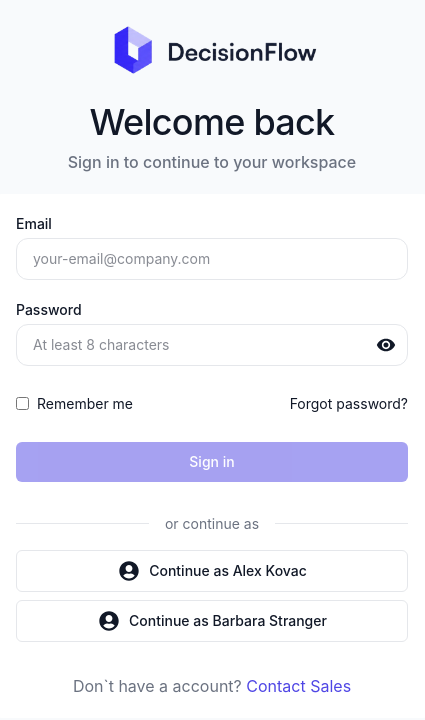
it: Login validation › should show error for invalid email
In the field with placeholder "your-email@company.com": [212, 259] box [16,238,408,280], type "bad-email"
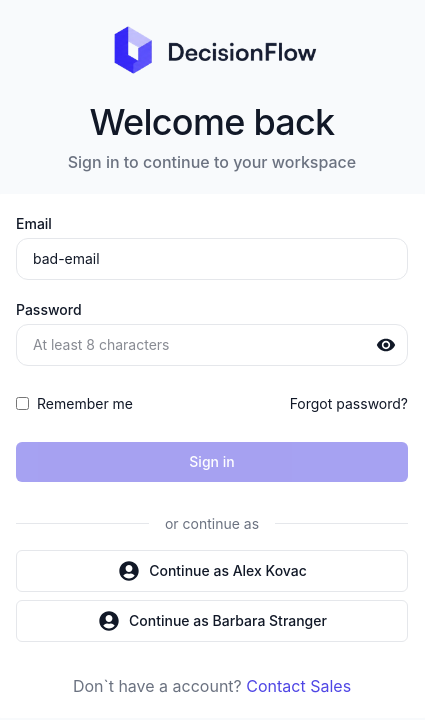
Click the button "Sign in": [212, 462] box [16,442,408,482]
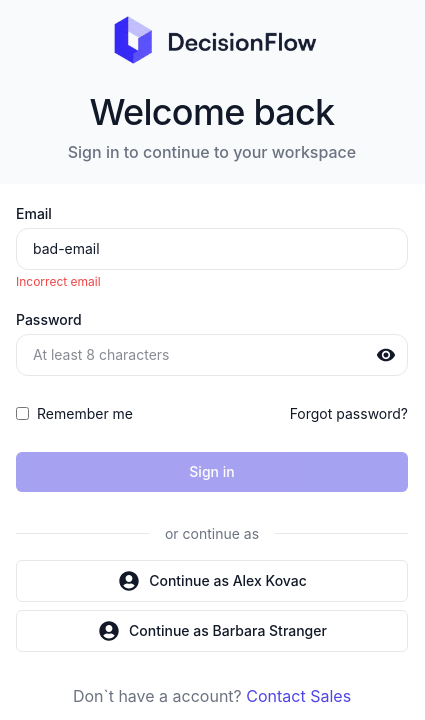
Expected: the text "Incorrect email" is shown, [16,274,101,289]
